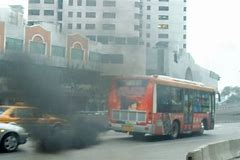smoke: (25, 120, 116, 153)
